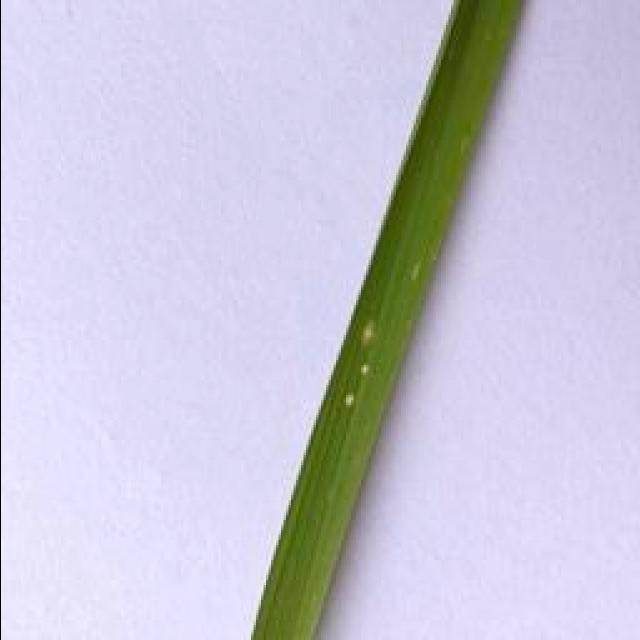Unhealthy: (359, 319, 376, 351), (341, 391, 355, 407), (357, 363, 371, 377)
